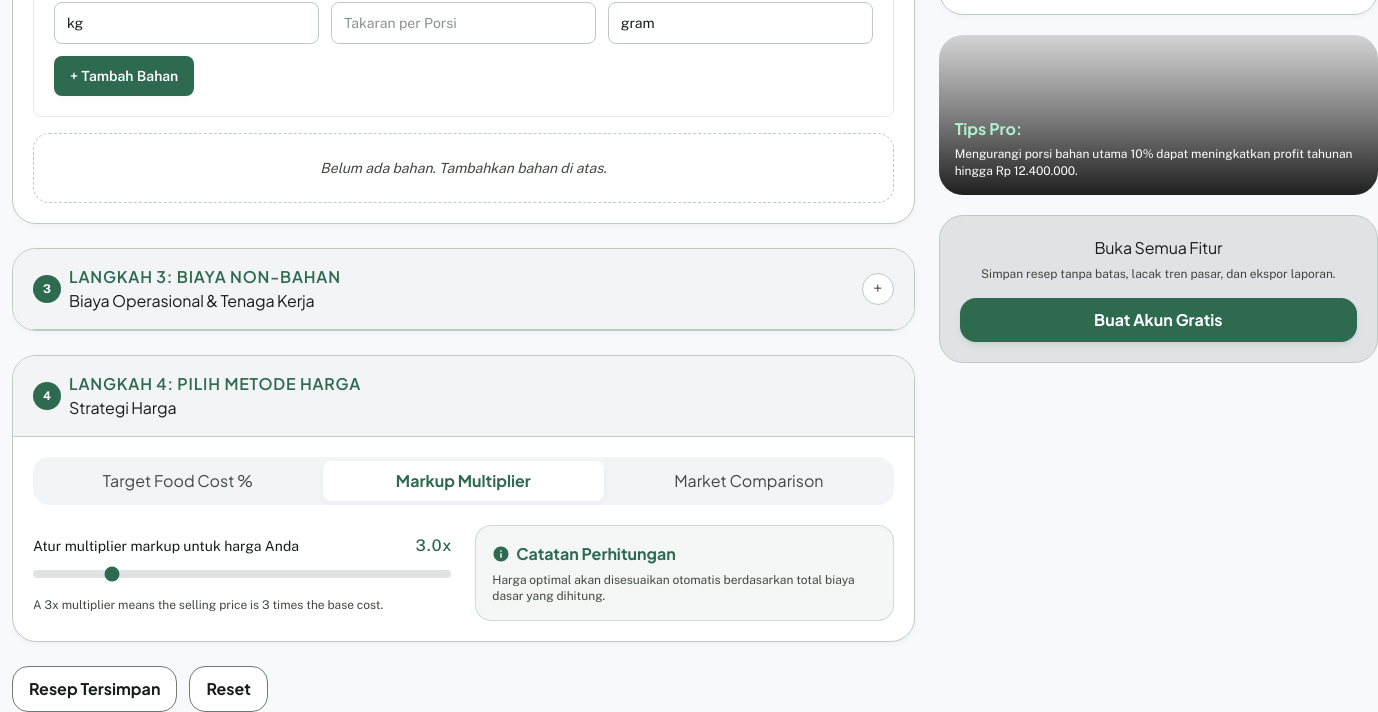
Scenario: CalculatorPage › shows MarketPriceInput when market method selected
(page scrolled)
Click the button "Market Comparison" at (749,481), box [608,461,890,501]
(page scrolled)
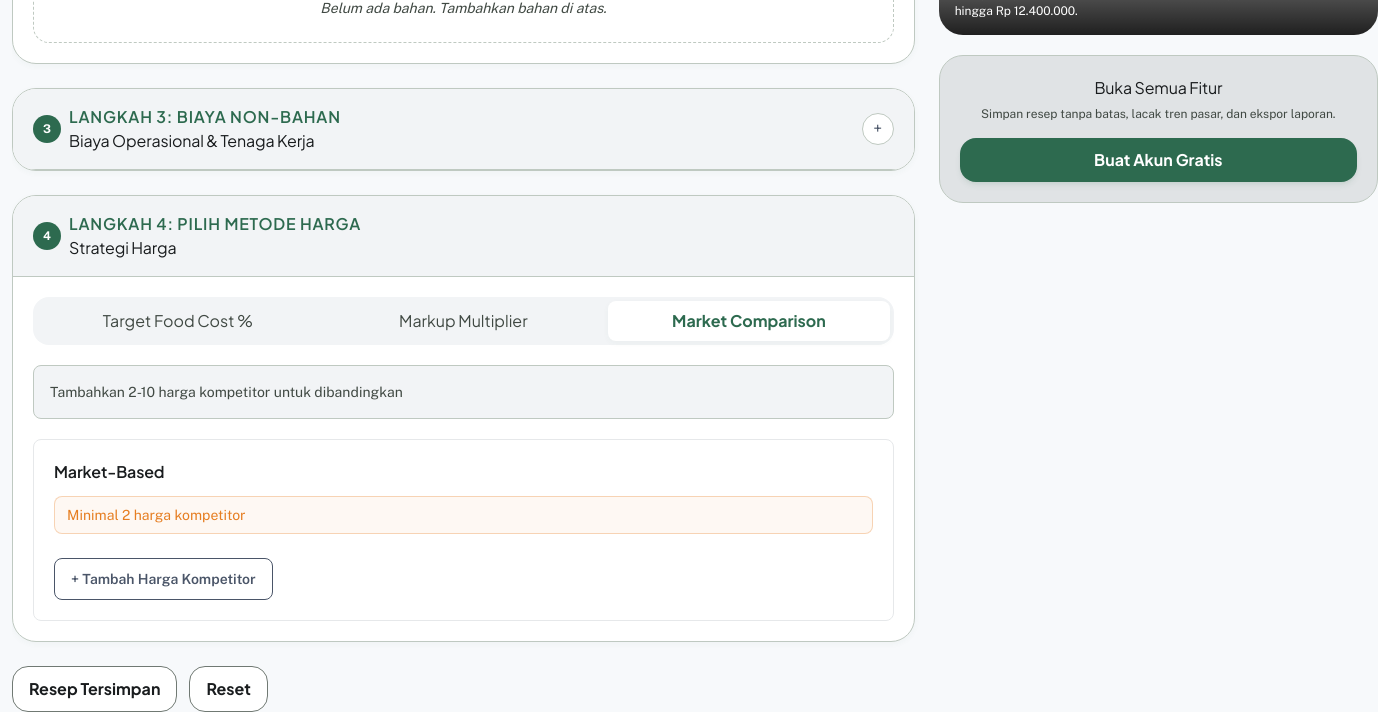
Now the button "+ Tambah Harga Kompetitor" is shown, box [54,558,273,600]
